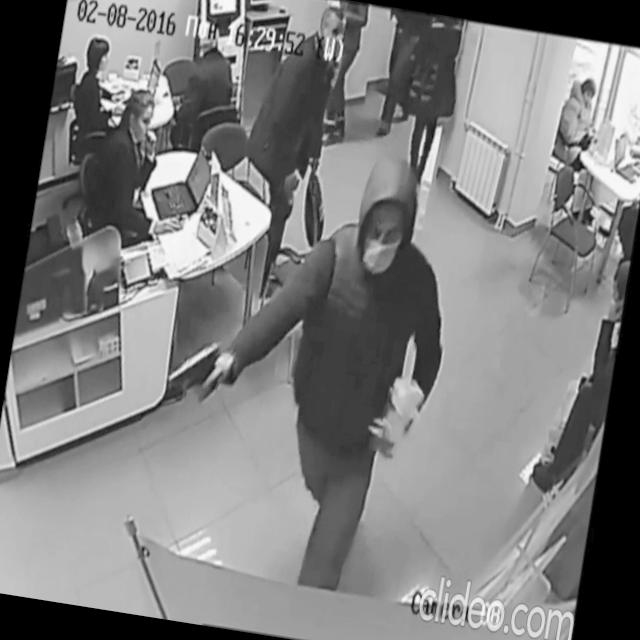gun: (163, 333, 224, 401)
person: (222, 0, 351, 302), (84, 83, 202, 255), (542, 71, 618, 225), (67, 32, 136, 154)
person with a gun: (138, 124, 472, 601)
